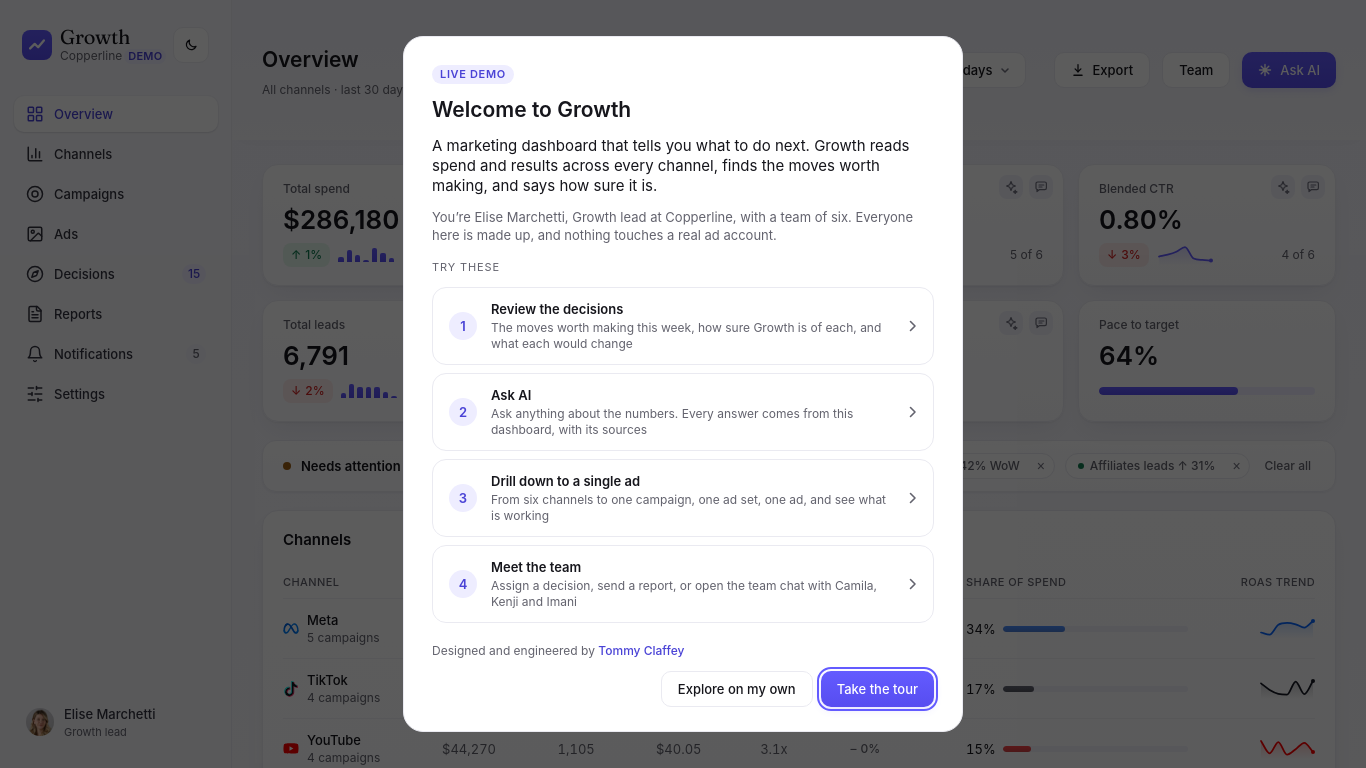
Test case: the demo welcome card › each step goes where it says: "Review the decisions" lands on Decisions
Click the button "Review the decisions". click: (683, 326)
box: [432, 287, 934, 365]
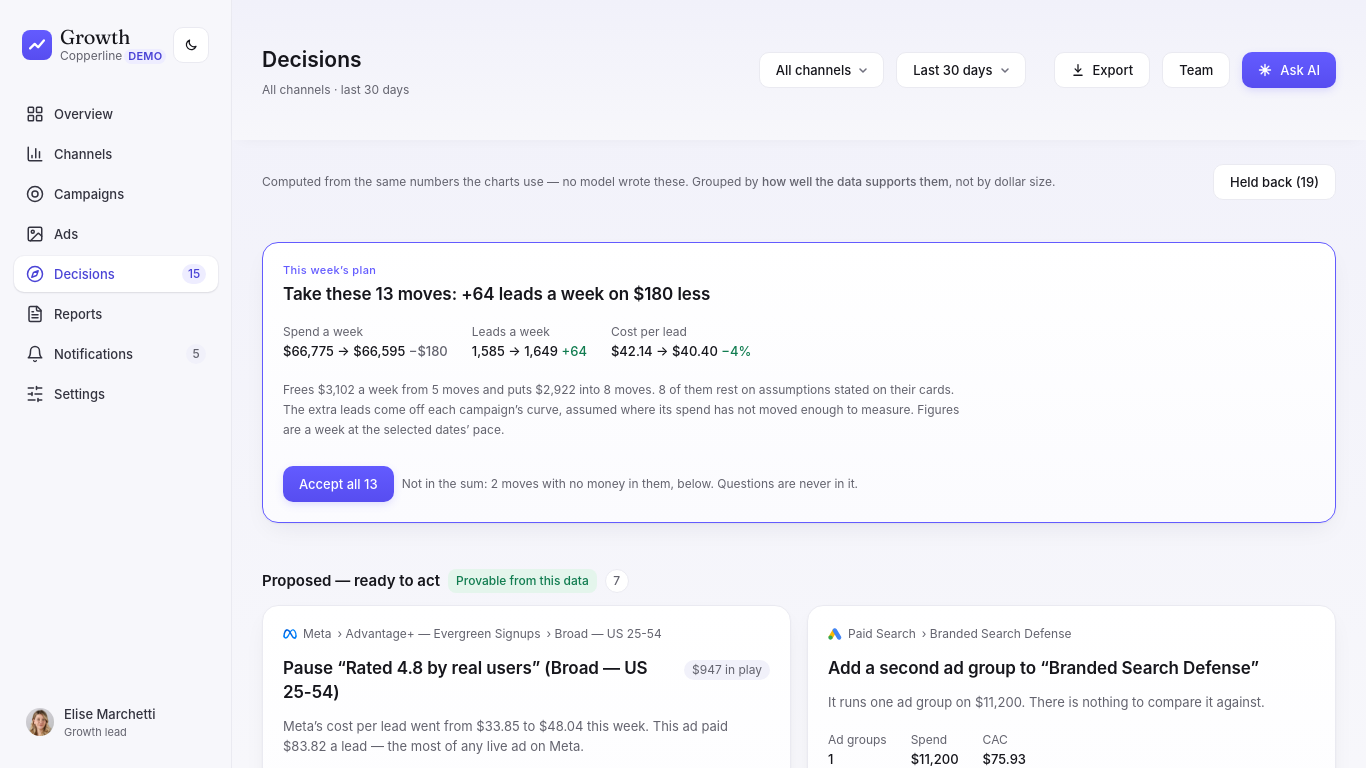
Check: the heading "Welcome to Growth" is gone
Check: the heading "Decisions" is shown, box [262, 42, 362, 78]
